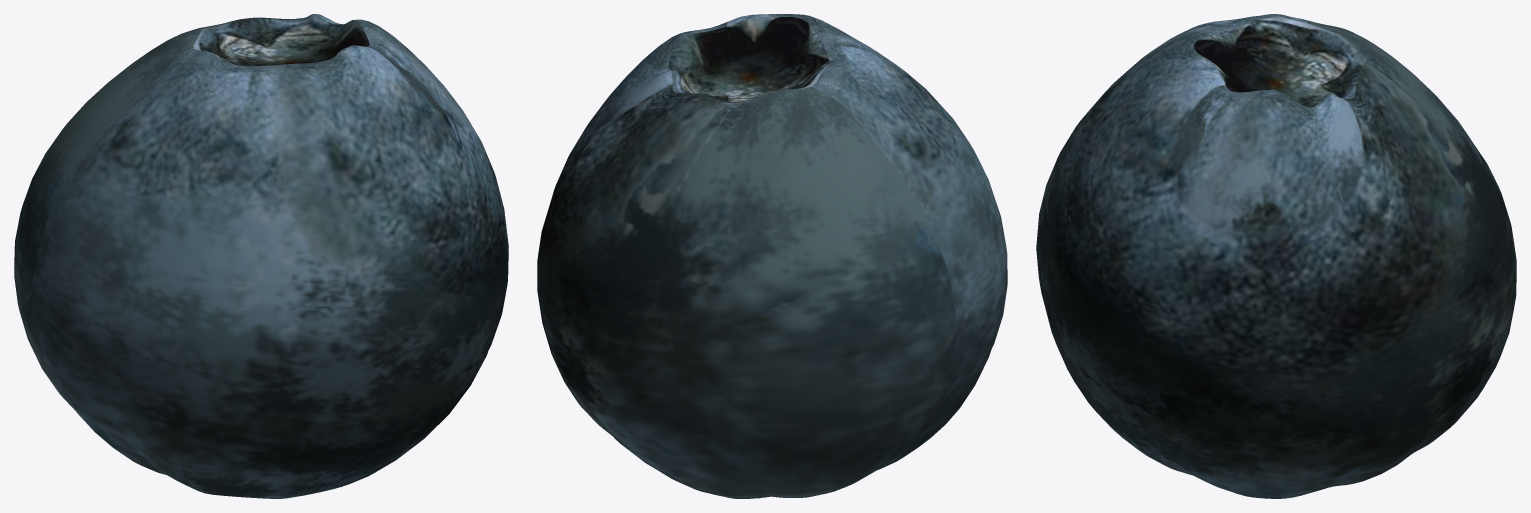
The model's file is BlueBerry.glb.
The picture shows the model from 3 angles, left to right: view 1: azimuth 30°, elevation 25°; view 2: azimuth 150°, elevation 25°; view 3: azimuth 270°, elevation 25°; orthographic projection. The views are drawn at different scales.
Parts seen in each view (by area): view 1: 10167_Blueberry_v01_it2.001; view 2: 10167_Blueberry_v01_it2.001; view 3: 10167_Blueberry_v01_it2.001.
Boxes of the visible parts, box(x1,y1,x2,y2) form: 10167_Blueberry_v01_it2.001: box(14, 14, 508, 498); 10167_Blueberry_v01_it2.001: box(537, 14, 1007, 498); 10167_Blueberry_v01_it2.001: box(1036, 14, 1516, 498).
Size of the model in its own units: 0.4088 by 0.3975 by 0.403.
Materials: 1 (1 with a texture image).
